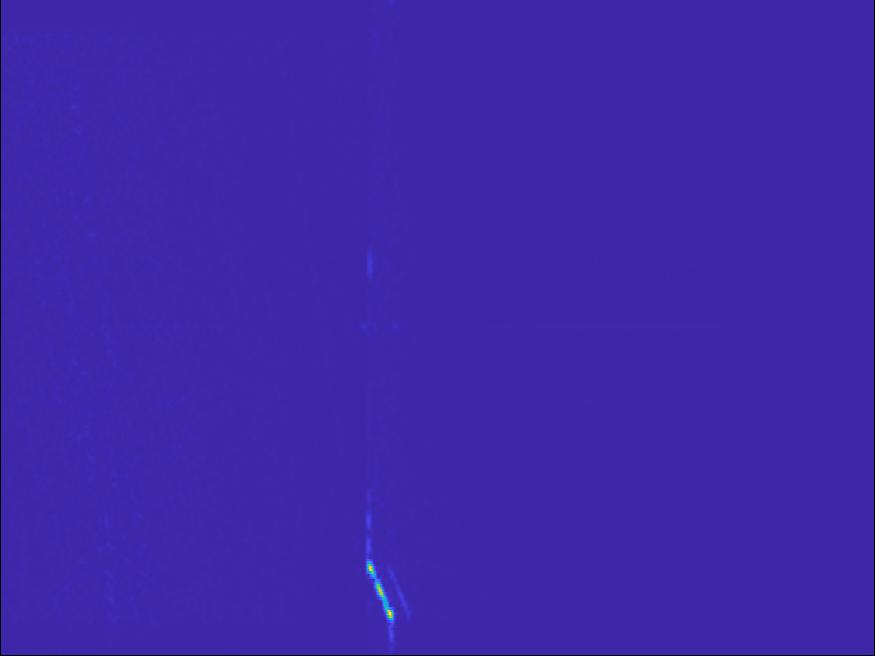Interference: (578, 136, 802, 304), (186, 295, 494, 362)
